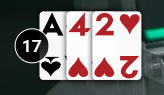2: (93, 10, 118, 40)
4: (65, 11, 93, 40)
a: (37, 10, 65, 39)
